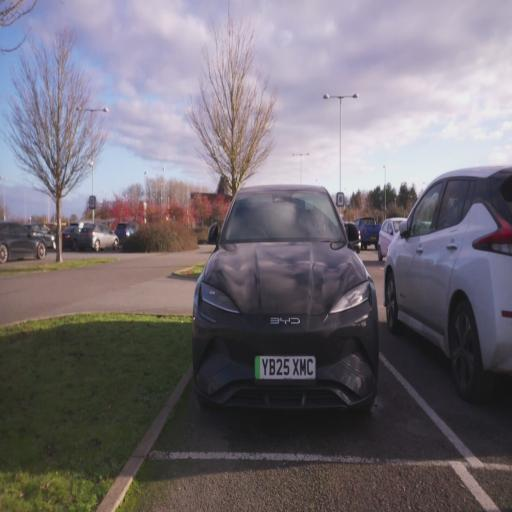numberplates: (255, 356, 315, 379), (371, 237, 376, 240)
